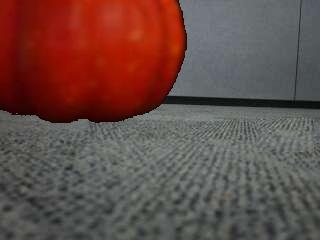Pumpkin: (0, 0, 190, 126)
